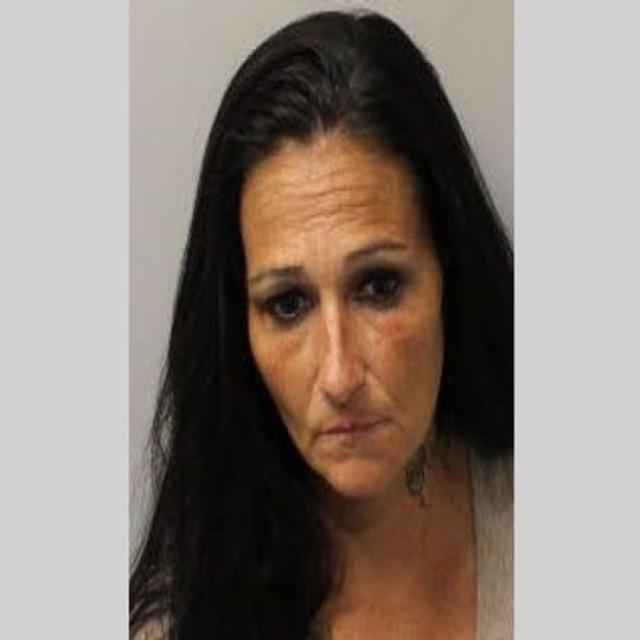human: (140, 12, 510, 639)
